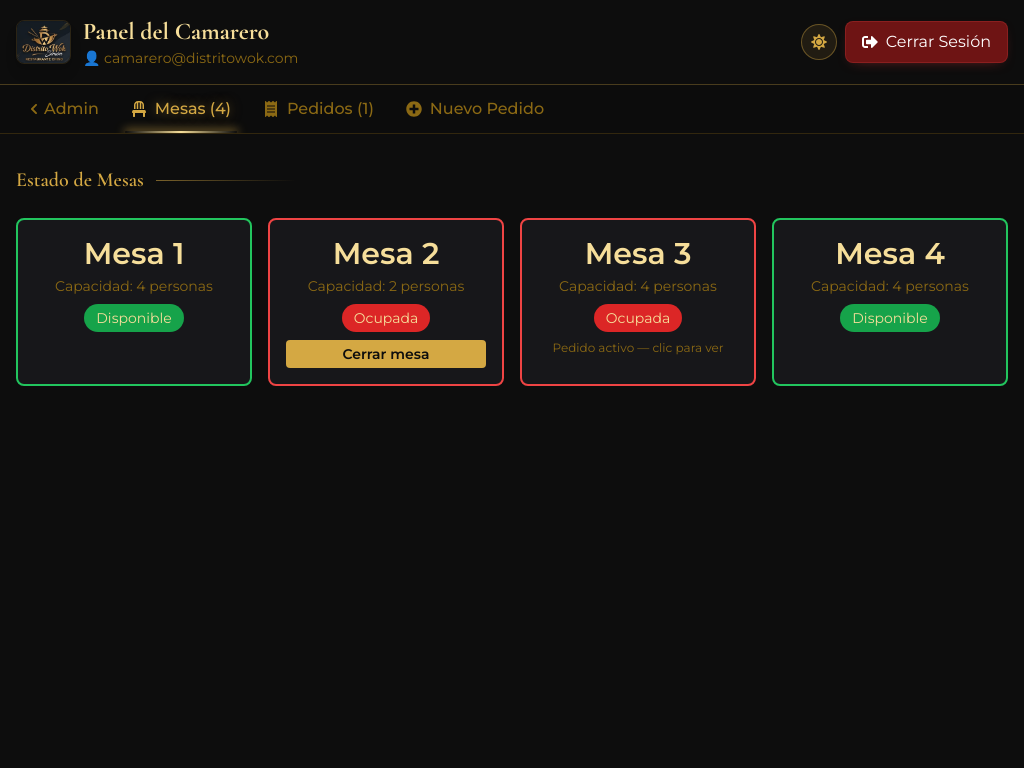
it: abre el editor al hacer clic en una mesa ocupada con pedido activo
Click the text "Mesa 3". click: (638, 254)
box: [585,235,691,272]
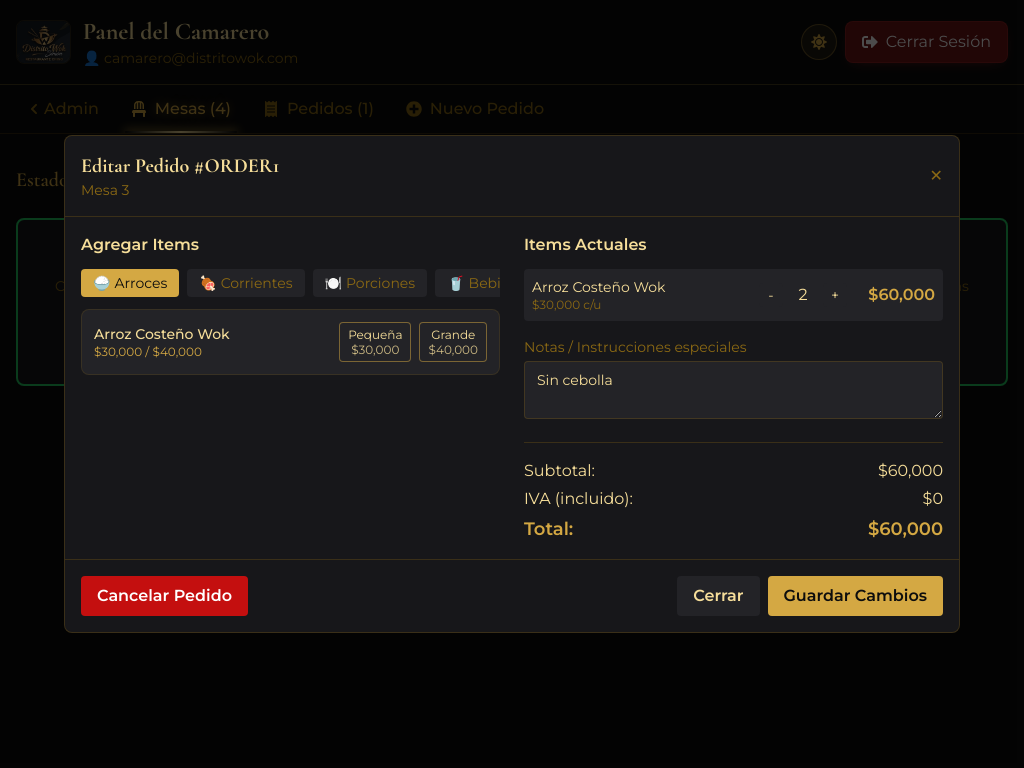
Expected: the heading "Editar Pedido #ORDER1" is shown, [81,152,279,180]
